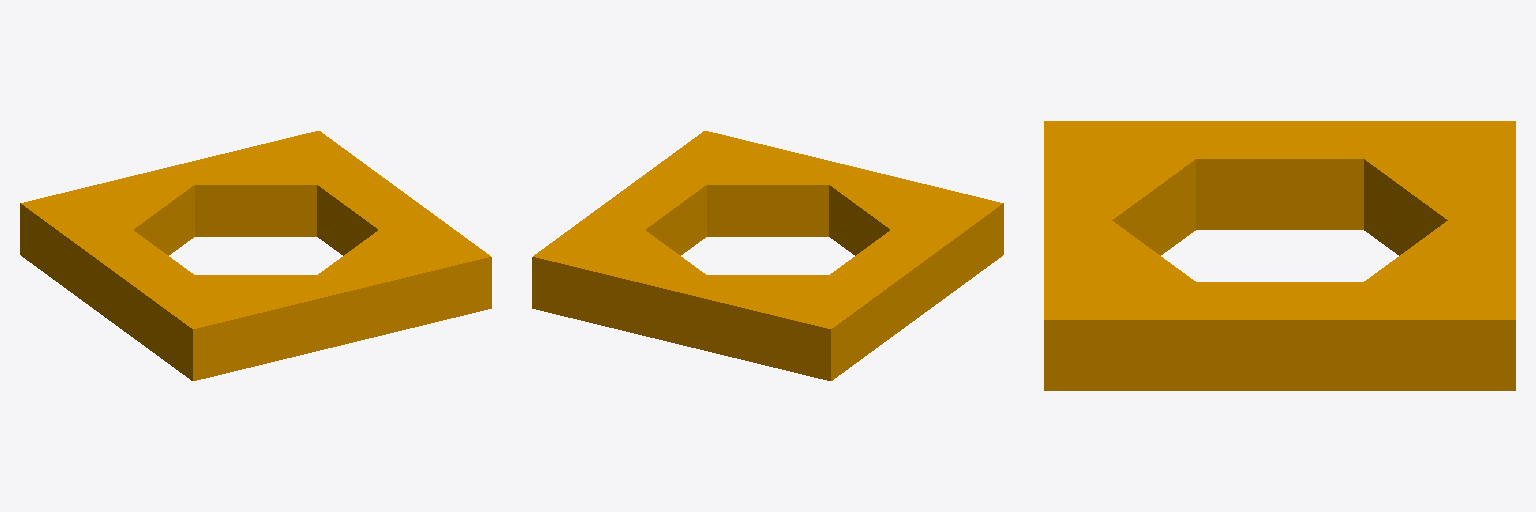
The robot description file, URDF, robot "hexagon_hole":
<?xml version="1.0"?>
<robot name="hexagon_hole">
    <link name="hexagon_hole">
        <visual>
            <!--origin xyz="0 0 0.01905" rpy="0 1.57079632679 0"-->
            <geometry>
                <mesh filename="../mesh/factory_insertion/hexagon_hole.obj"/>
            </geometry>
        </visual>
        <collision>
            <!--origin xyz="0 0 0.01905" rpy="0 1.57079632679 0"-->
            <geometry>
                <mesh filename="../mesh/factory_insertion/hexagon_hole.obj"/>
            </geometry>
                        <sdf resolution="256" />

        </collision>
    </link>
</robot>

--- What the picture shows (computed from the rendered views, not written in the file) ---
3 views of the same robot in one strip: view 1: azimuth 30°, elevation 25°; view 2: azimuth 150°, elevation 25°; view 3: azimuth 270°, elevation 25° (orthographic).
Robot: hexagon_hole — 1 links, 0 joints (none); root link hexagon_hole; default pose: all joints at 0.
Links seen in each view (by area): view 1: hexagon_hole; view 2: hexagon_hole; view 3: hexagon_hole.
Boxes of the visible links, left/top/right/bottom form: hexagon_hole: left=20, top=131, right=491, bottom=380; hexagon_hole: left=532, top=131, right=1003, bottom=380; hexagon_hole: left=1044, top=121, right=1515, bottom=390.
Bounding box of the posed robot: 0.06 × 0.06 × 0.01 m (x, y, z).
Meshes: 1 distinct files referenced, 1 mesh visuals loaded (1 OBJ).
